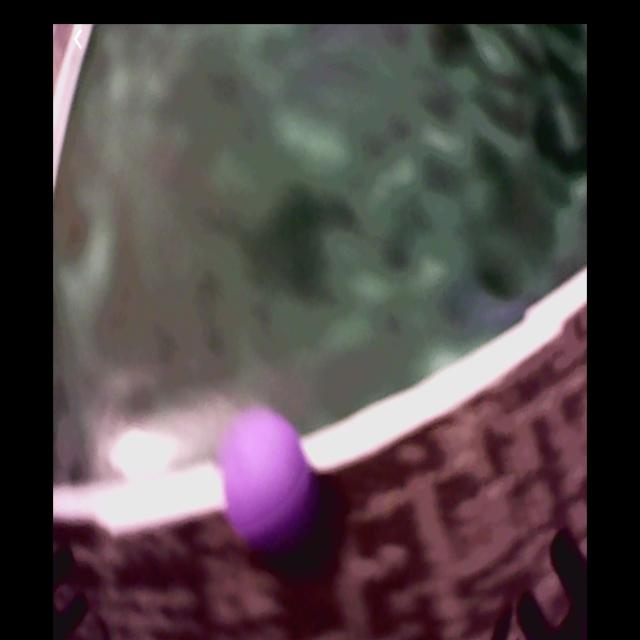ball: (218, 415, 315, 547)
